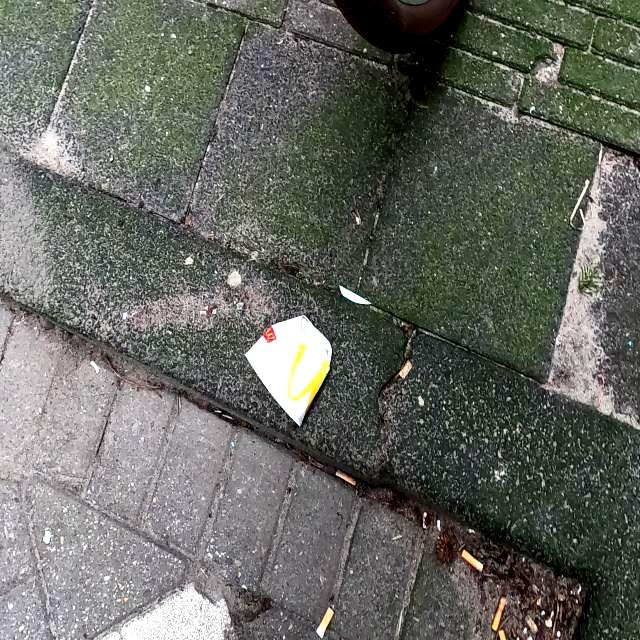Coffee Cup: (242, 312, 334, 430)
